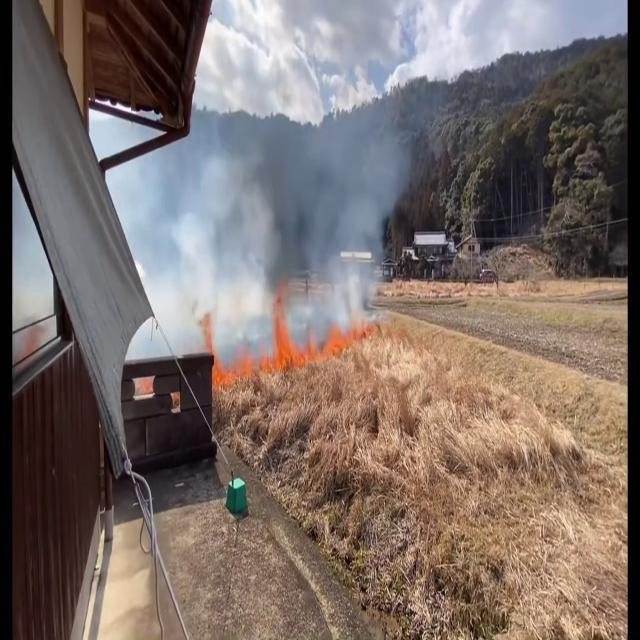Fire: (318, 299, 416, 367), (201, 303, 240, 396), (266, 296, 298, 380)
Smoke: (140, 109, 415, 352)
